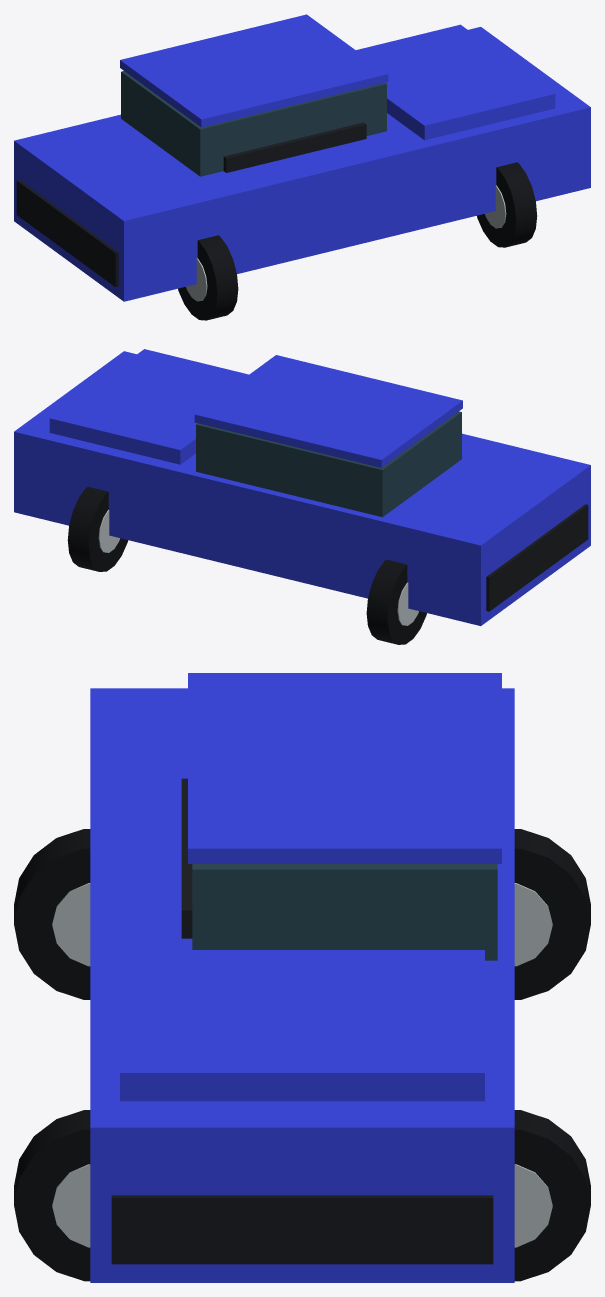
The model's file is ford_taurus_x.glb.
The picture shows the model from 3 angles, top to bottom: view 1: azimuth 30°, elevation 25°; view 2: azimuth 150°, elevation 25°; view 3: azimuth 270°, elevation 25°; orthographic projection. The views are drawn at different scales.
Parts seen in each view (by area): view 1: body, roof, hood, cabin, rear_bumper, rear_right_wheel, front_right_wheel, interior; view 2: body, roof, cabin, hood, rear_bumper, rear_left_wheel, front_left_wheel; view 3: body, roof, hood, front_bumper, cabin, front_left_wheel, front_right_wheel, rear_left_wheel, rear_right_wheel, interior.
Boxes of the visible parts, bbox=[...] form: body: bbox=[14, 27, 590, 301]; roof: bbox=[120, 14, 388, 127]; hood: bbox=[356, 24, 555, 140]; cabin: bbox=[121, 71, 386, 176]; rear_bumper: bbox=[16, 180, 118, 287]; rear_right_wheel: bbox=[178, 235, 238, 320]; front_right_wheel: bbox=[477, 162, 537, 247]; interior: bbox=[223, 122, 366, 172]; body: bbox=[14, 351, 590, 625]; roof: bbox=[194, 355, 462, 467]; cabin: bbox=[196, 411, 461, 517]; hood: bbox=[49, 349, 248, 464]; rear_bumper: bbox=[486, 504, 588, 611]; rear_left_wheel: bbox=[366, 559, 426, 644]; front_left_wheel: bbox=[67, 486, 128, 571]; body: bbox=[90, 688, 514, 1282]; roof: bbox=[188, 673, 501, 863]; hood: bbox=[120, 950, 484, 1101]; front_bumper: bbox=[111, 1195, 493, 1264]; cabin: bbox=[192, 864, 497, 960]; front_left_wheel: bbox=[514, 1110, 590, 1281]; front_right_wheel: bbox=[14, 1110, 90, 1281]; rear_left_wheel: bbox=[514, 829, 590, 999]; rear_right_wheel: bbox=[14, 829, 90, 999]; interior: bbox=[181, 778, 192, 938].
Size of the model in its own units: 4.96 by 1.74 by 2.72.
